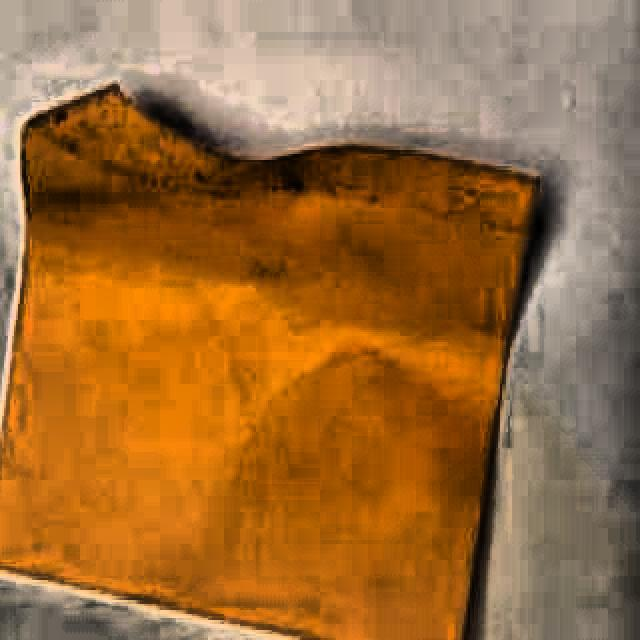paper: (0, 80, 538, 640)
